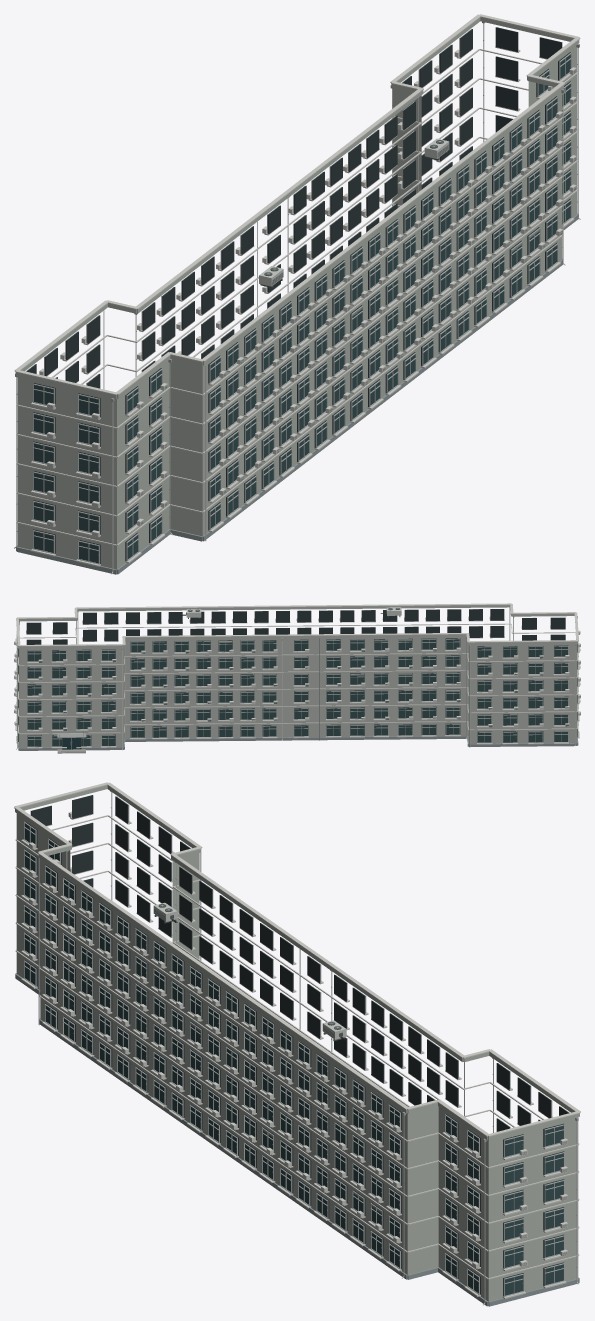
The model's file is osm_way_225250620.glb.
The picture shows the model from 3 angles, top to bottom: view 1: azimuth 30°, elevation 25°; view 2: azimuth 150°, elevation 25°; view 3: azimuth 270°, elevation 25°; orthographic projection. The views are drawn at different scales.
Visible parts, largest first — view 1: Windows and facade details | 39, Architecture | 39, Roof services | 39, EXTERIOR::osm_way_225250620::rainwater and roof service deta; view 2: Architecture | 39, Windows and facade details | 39, Roof services | 39, EXTERIOR::osm_way_225250620::rainwater and roof service deta, EXTERIOR::osm_way_225250620::inferred entry doors canopy and, EXTERIOR::osm_way_225250620::native pane seals and hardware; view 3: Windows and facade details | 39, Architecture | 39, Roof services | 39, EXTERIOR::osm_way_225250620::rainwater and roof service deta.
Boxes of the visible parts, x1=… form: Windows and facade details | 39: x1=26, y1=27, x2=576, y2=566; Architecture | 39: x1=15, y1=17, x2=579, y2=574; Roof services | 39: x1=14, y1=14, x2=580, y2=395; EXTERIOR::osm_way_225250620::rainwater and roof service deta: x1=14, y1=21, x2=580, y2=574; Architecture | 39: x1=18, y1=605, x2=578, y2=750; Windows and facade details | 39: x1=14, y1=607, x2=580, y2=748; Roof services | 39: x1=16, y1=603, x2=578, y2=646; EXTERIOR::osm_way_225250620::rainwater and roof service deta: x1=16, y1=607, x2=577, y2=750; EXTERIOR::osm_way_225250620::inferred entry doors canopy and: x1=57, y1=731, x2=86, y2=753; EXTERIOR::osm_way_225250620::native pane seals and hardware: x1=114, y1=640, x2=542, y2=741; Windows and facade details | 39: x1=21, y1=795, x2=569, y2=1298; Architecture | 39: x1=15, y1=785, x2=579, y2=1306; Roof services | 39: x1=14, y1=782, x2=580, y2=1136; EXTERIOR::osm_way_225250620::rainwater and roof service deta: x1=66, y1=791, x2=578, y2=1305.
Bounding box in the file's own units: 87.5 × 20.58 × 59.25.
